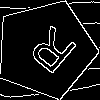R: (20, 24, 80, 83)
